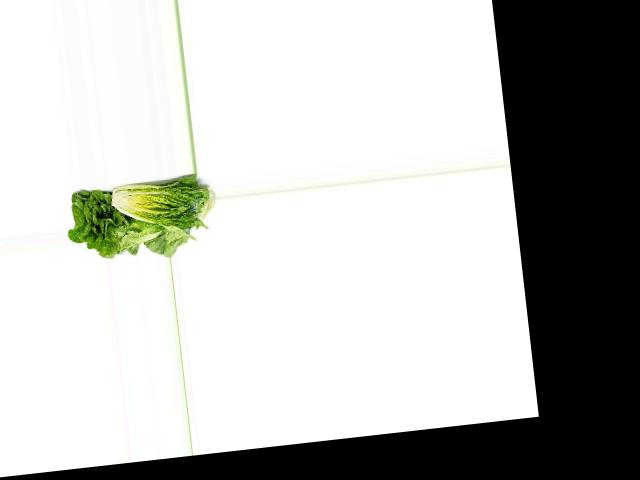lettuce: (65, 177, 161, 262)
